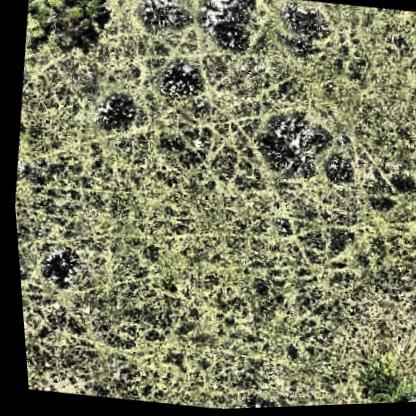tree-top: (25, 0, 107, 57), (344, 351, 416, 407)
